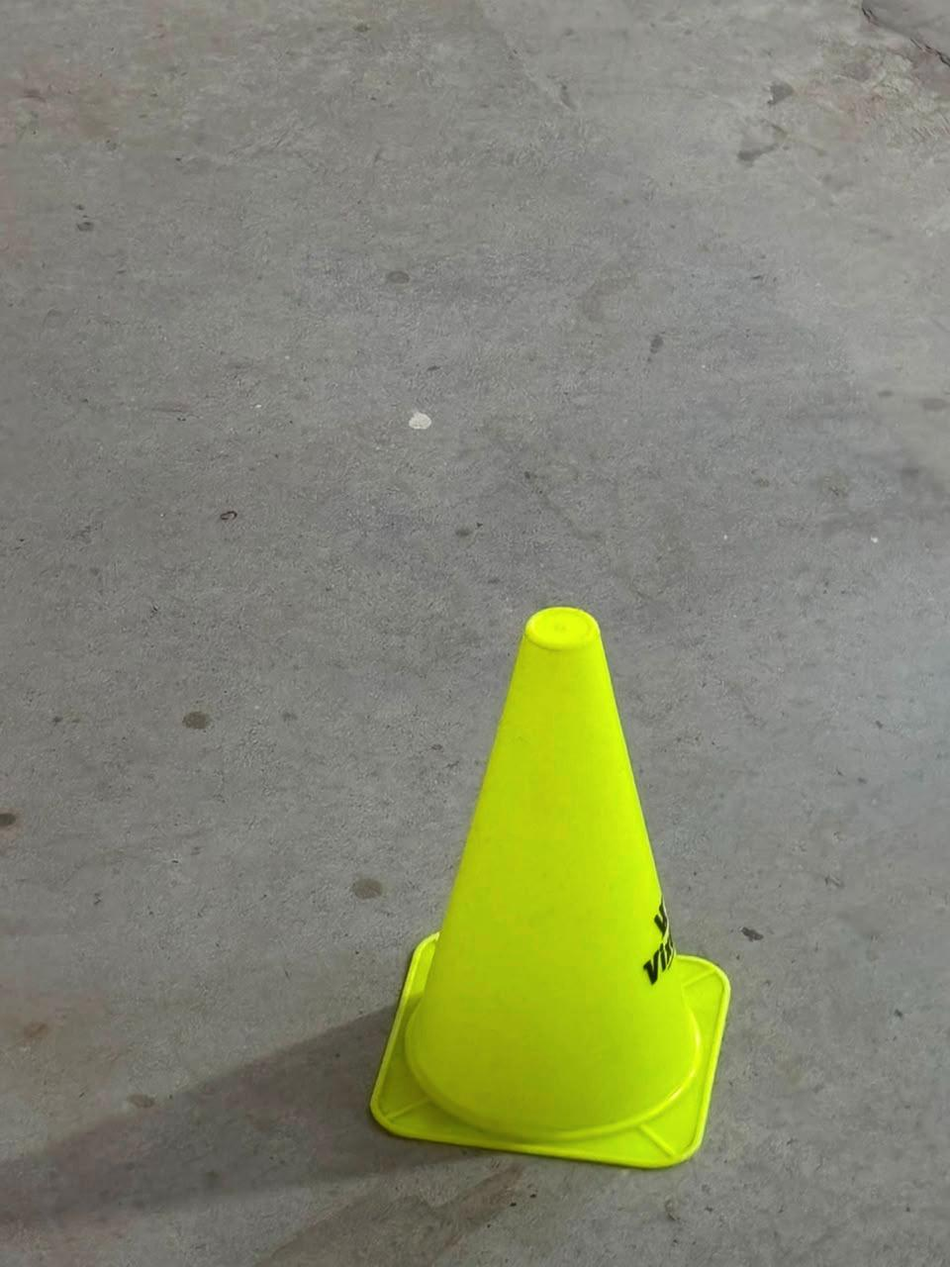0 cone: (371, 607, 729, 1168)
